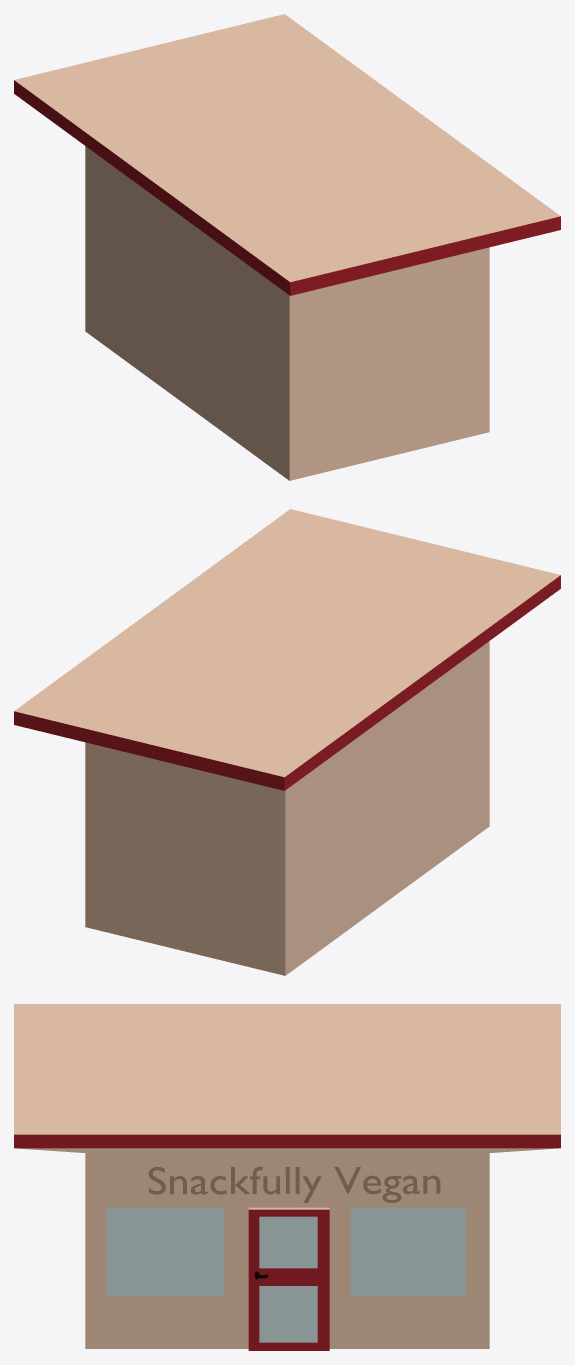
The model's file is snackbar.fbx.
3 views of the same model, one above another, from view 1: azimuth 30°, elevation 25°; view 2: azimuth 150°, elevation 25°; view 3: azimuth 270°, elevation 25° (orthographic).
Visible parts, largest first — view 1: Cube, Cube.004; view 2: Cube, Cube.004; view 3: Cube, Cube.003, Cube.004, Cube.002, Cube.001, Text.
Boxes of the visible parts, box(x1,y1,x2,y2) form: Cube: box(14, 14, 560, 480); Cube.004: box(14, 80, 560, 295); Cube: box(14, 509, 560, 975); Cube.004: box(14, 575, 560, 790); Cube: box(14, 1004, 560, 1348); Cube.003: box(106, 1207, 465, 1296); Cube.004: box(14, 1134, 560, 1148); Cube.002: box(259, 1216, 317, 1342); Cube.001: box(248, 1209, 329, 1350); Text: box(148, 1166, 440, 1202).
Size of the model in its own units: 694 by 573 by 1227.
